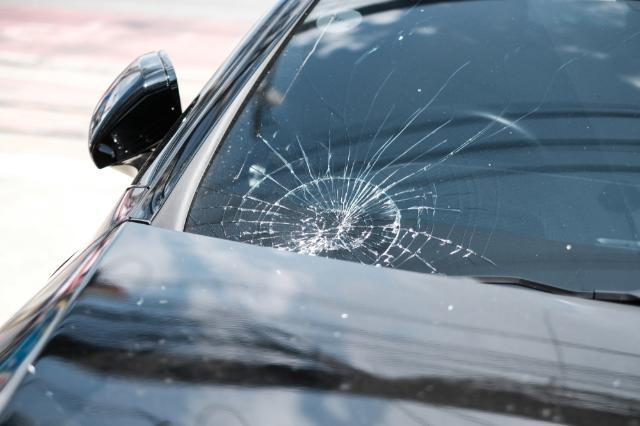glass shatter: (185, 0, 640, 292)
